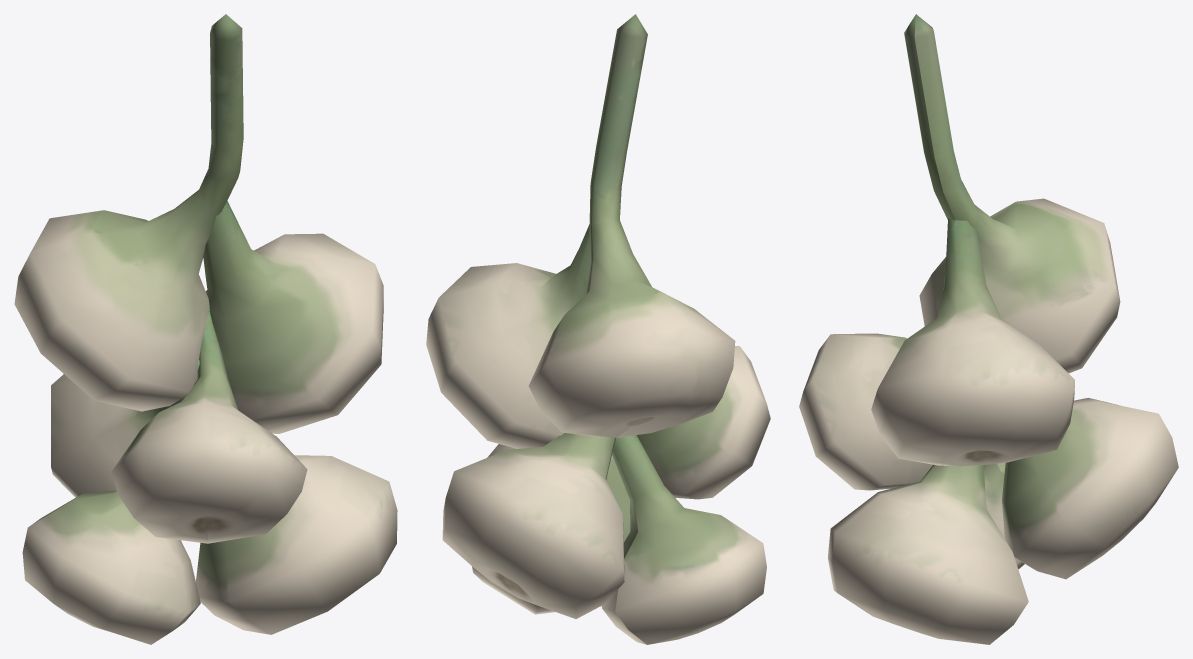
File: Garlic.fbx
3 renders of one model, left to right at view 1: azimuth 30°, elevation 25°; view 2: azimuth 150°, elevation 25°; view 3: azimuth 270°, elevation 25°, orthographic. The views are drawn at different scales.
Visible parts, largest first — view 1: Garlic; view 2: Garlic; view 3: Garlic.
Part boxes in pixels (x1,y1,x2,y2): Garlic: (14,14,397,644); Garlic: (426,14,770,644); Garlic: (799,14,1178,644).
Size of the model in its own units: 110 by 200 by 115.
Materials: 1 (1 with a texture image).
